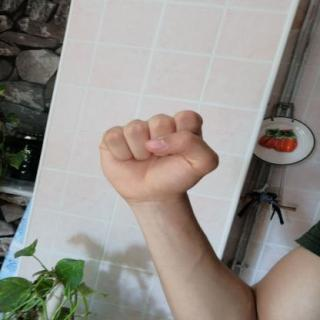SAD: (86, 101, 233, 211)
